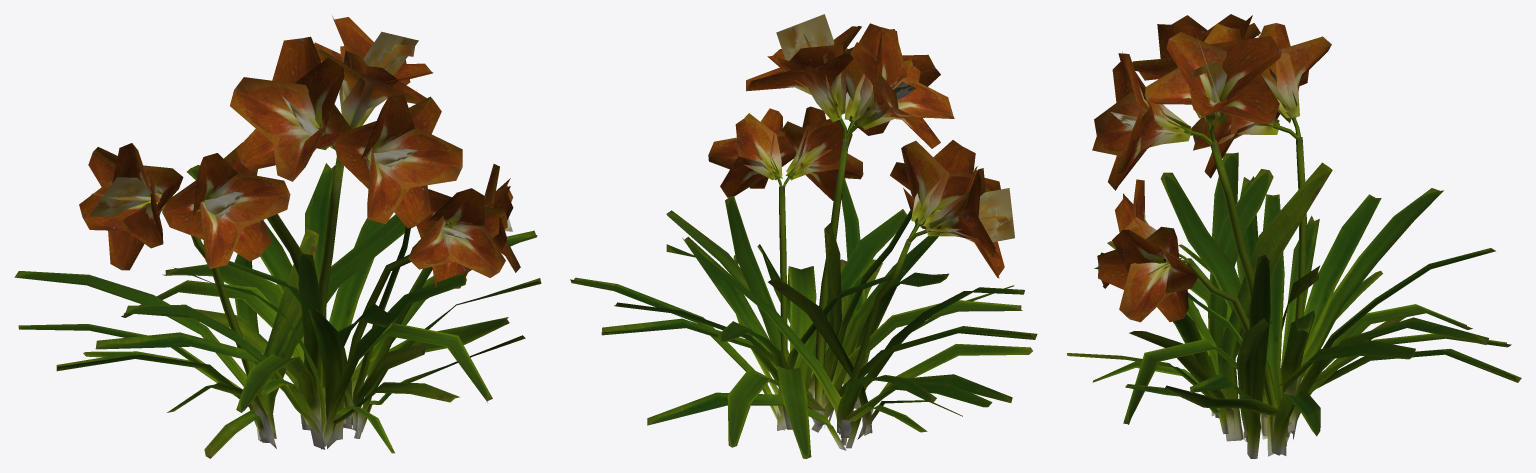
File: Amaryllis_bush_short_peach.glb
The picture shows the model from 3 angles, left to right: view 1: azimuth 30°, elevation 25°; view 2: azimuth 150°, elevation 25°; view 3: azimuth 270°, elevation 25°; orthographic projection. The views are drawn at different scales.
Visible parts, largest first — view 1: bush; view 2: bush; view 3: bush.
Boxes of the visible parts, bbox=[...] form: bush: bbox=[14, 16, 541, 458]; bush: bbox=[570, 14, 1037, 458]; bush: bbox=[1067, 14, 1521, 458].
Bounding box in the file's own units: 2.76 × 2.32 × 2.27.
1 material, 1 textured.
